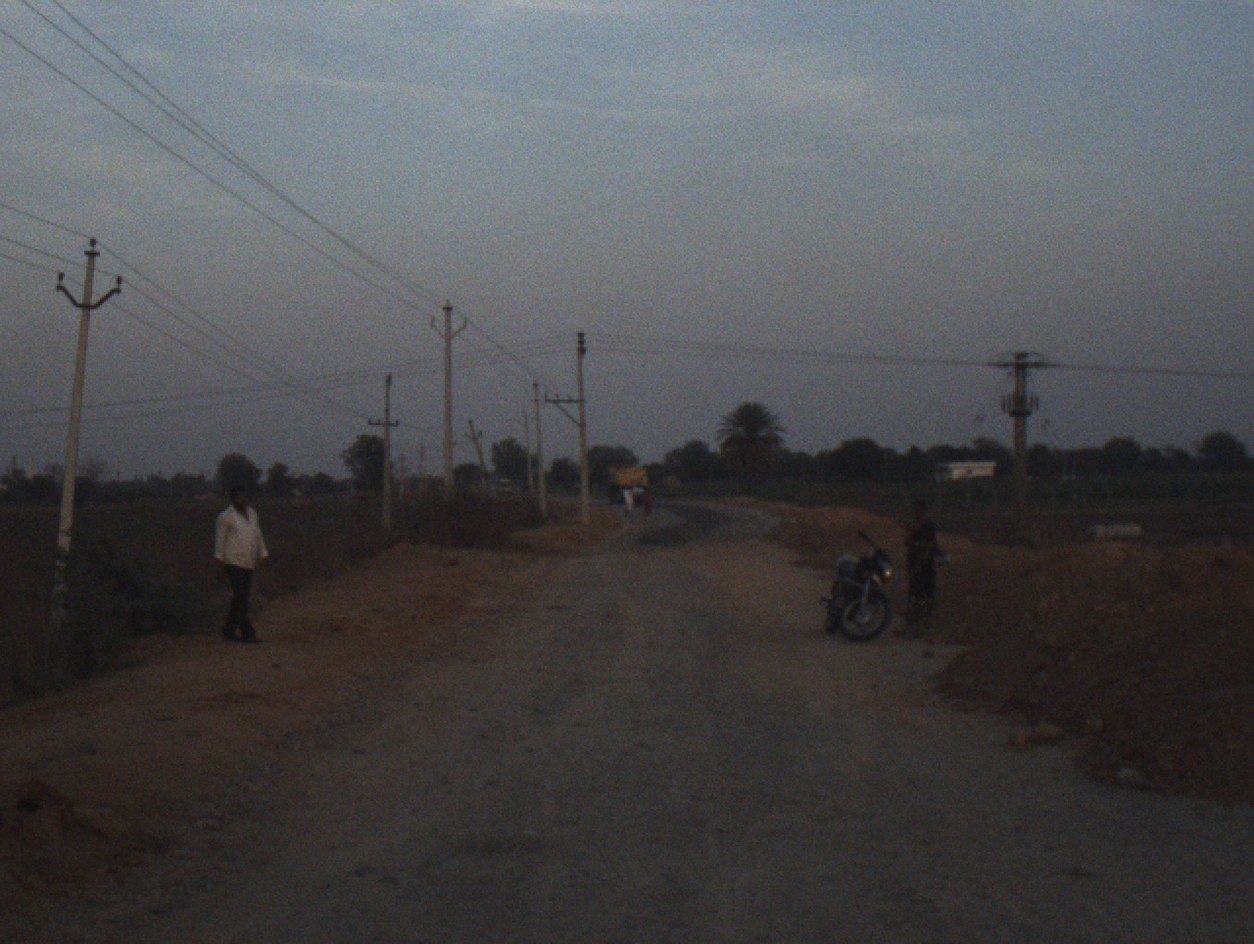car: (496, 477, 513, 492)
motorcycle: (823, 531, 899, 641)
person: (206, 477, 277, 640), (894, 490, 957, 631), (621, 479, 635, 509), (641, 481, 654, 513)
rider: (633, 483, 641, 500)
truck: (608, 459, 650, 504)
